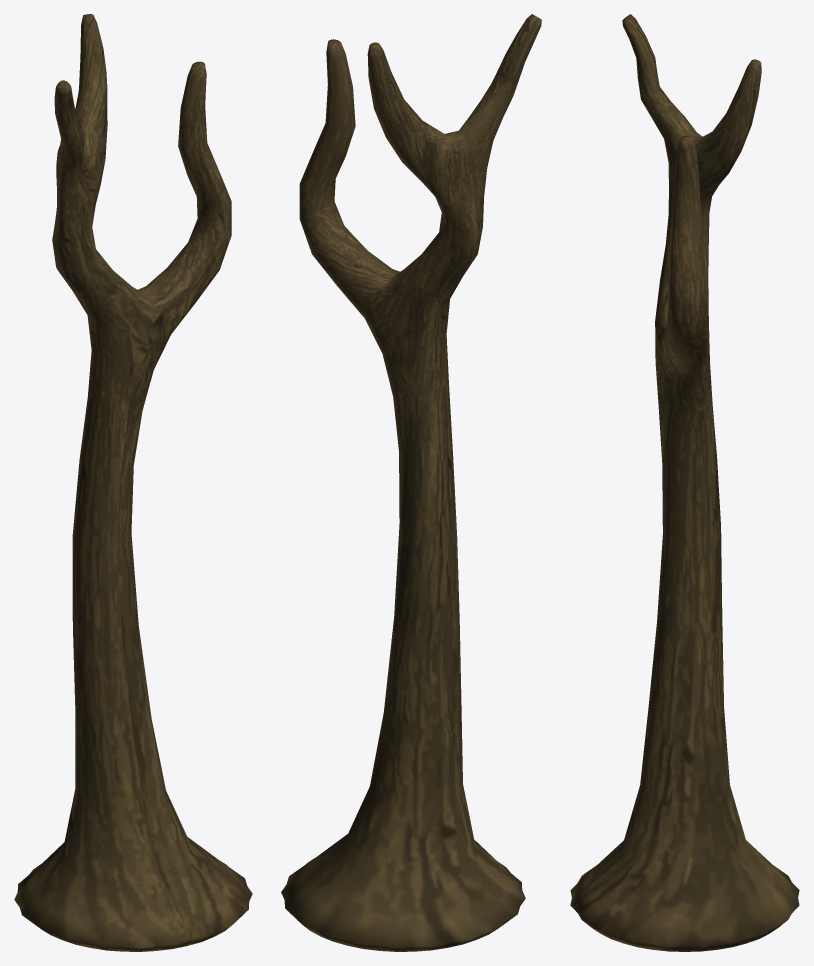
The model's file is Treetrunk.fbx.
The picture shows the model from 3 angles, left to right: view 1: azimuth 30°, elevation 25°; view 2: azimuth 150°, elevation 25°; view 3: azimuth 270°, elevation 25°; orthographic projection. The views are drawn at different scales.
Parts seen in each view (by area): view 1: TrunkUnwrapped:Mesh; view 2: TrunkUnwrapped:Mesh; view 3: TrunkUnwrapped:Mesh.
Boxes of the visible parts, bbox=[...] form: TrunkUnwrapped:Mesh: bbox=[14, 14, 252, 951]; TrunkUnwrapped:Mesh: bbox=[281, 14, 541, 951]; TrunkUnwrapped:Mesh: bbox=[570, 14, 799, 951].
Bounding box in the file's own units: 4.57 × 18.35 × 4.51.
